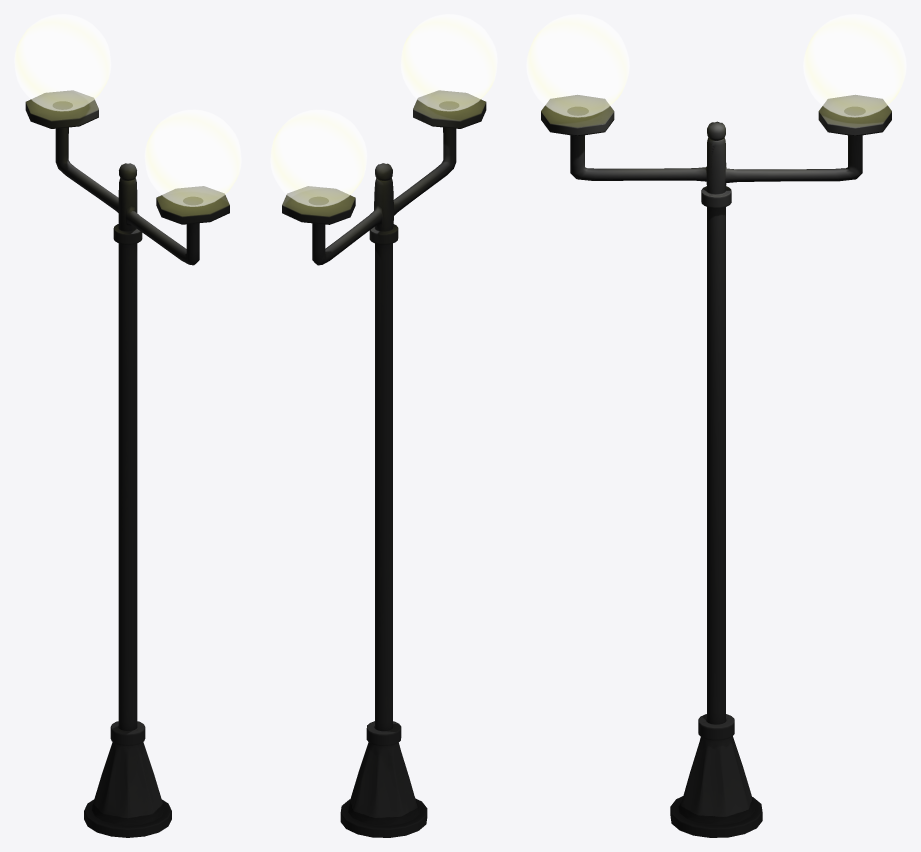
Rendered from light.glb.
3 views of the same model, side by side, from view 1: azimuth 30°, elevation 25°; view 2: azimuth 150°, elevation 25°; view 3: azimuth 270°, elevation 25° (orthographic). The views are drawn at different scales.
Visible parts, largest first — view 1: Object_2, Object_3; view 2: Object_2, Object_3; view 3: Object_2, Object_3.
Boxes of the visible parts, x1=… form: Object_2: x1=25, y1=90, x2=229, y2=837; Object_3: x1=14, y1=14, x2=241, y2=206; Object_2: x1=282, y1=90, x2=486, y2=837; Object_3: x1=270, y1=14, x2=497, y2=206; Object_2: x1=541, y1=95, x2=891, y2=837; Object_3: x1=526, y1=14, x2=906, y2=117.
Size of what is drawn, in the model's own units: 2.02 by 17.16 by 7.4.
2 materials, 1 textured.
